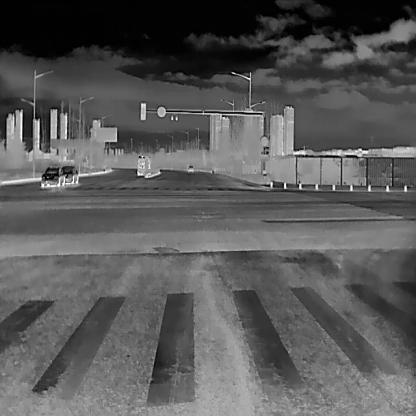car: (40, 164, 64, 187), (61, 164, 78, 184), (136, 155, 150, 175), (187, 164, 194, 172)
crosswalk: (2, 278, 416, 416), (76, 177, 295, 199)
light: (138, 104, 149, 124)
sign: (259, 133, 270, 149), (155, 106, 167, 120)
